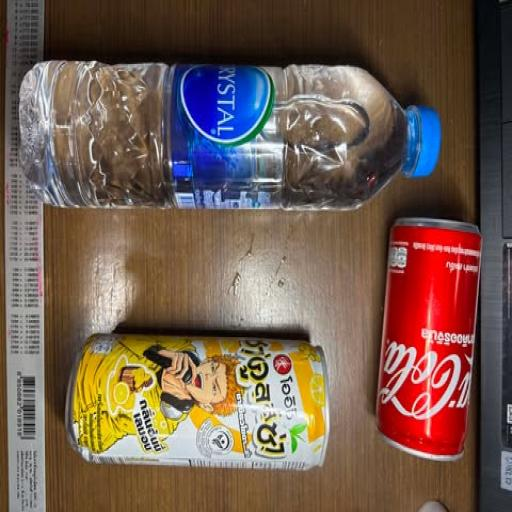bottle: (12, 34, 452, 219)
canned: (48, 300, 355, 489), (372, 214, 489, 478)
